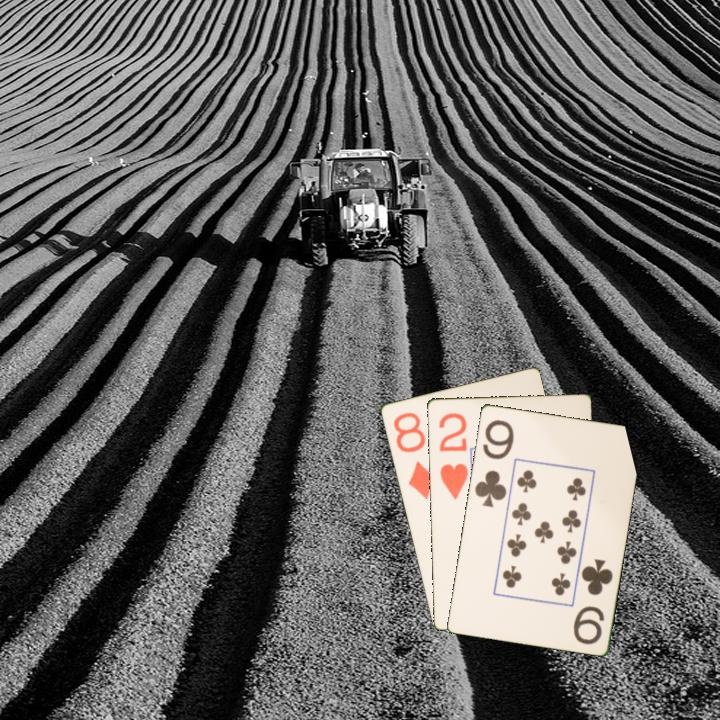2h: (435, 409, 470, 502)
8d: (389, 408, 438, 502)
9c: (471, 416, 517, 510), (570, 555, 616, 647)
